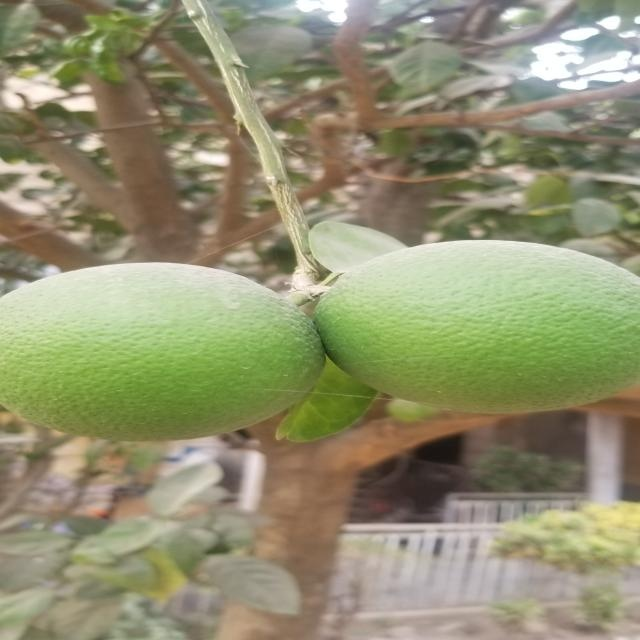agrume: (3, 262, 327, 438), (336, 240, 640, 406)
